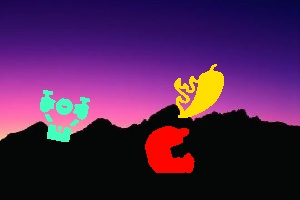吃豆人: (145, 126, 196, 178)
弹弓: (40, 89, 90, 143)
树叶: (174, 64, 226, 119)
